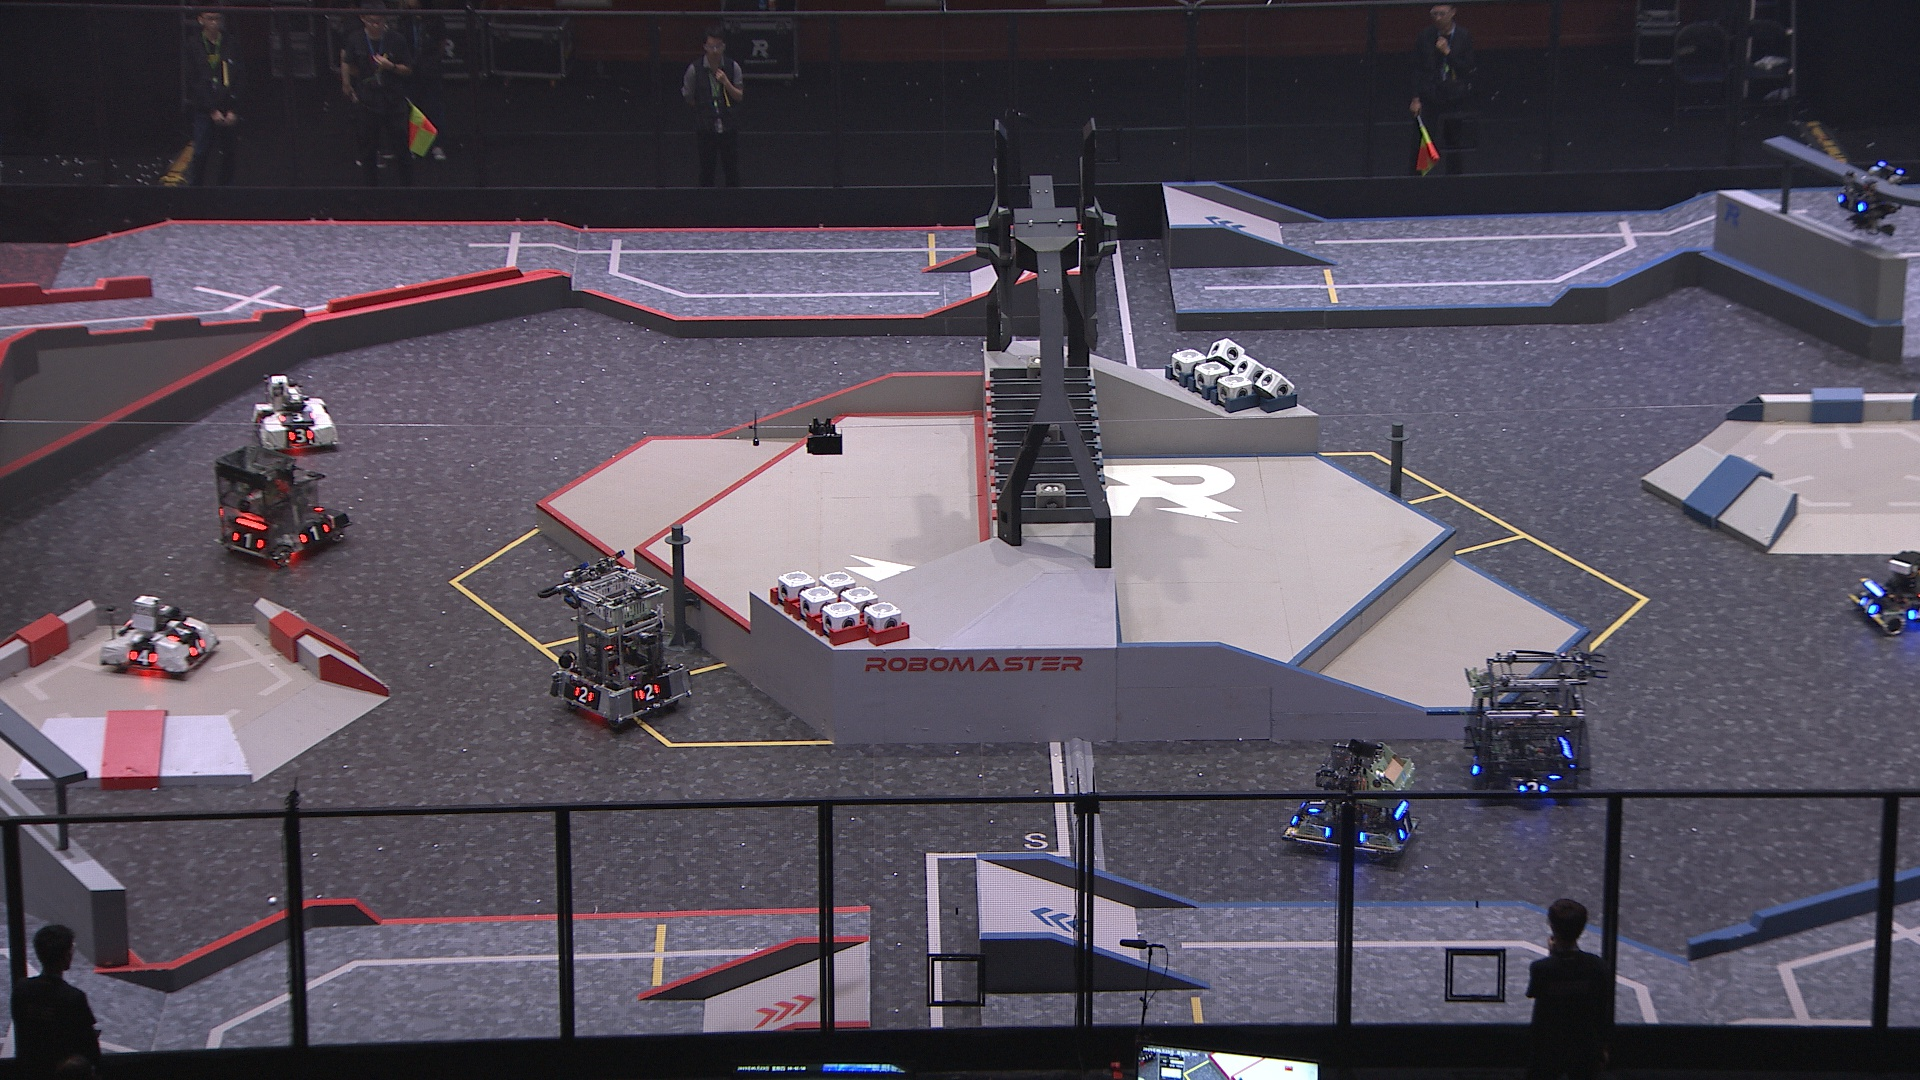armor: (297, 518, 334, 549), (1837, 191, 1871, 218), (164, 617, 193, 647), (125, 645, 160, 670), (276, 405, 314, 427), (1514, 778, 1548, 802), (229, 531, 266, 553), (633, 680, 665, 704), (1393, 815, 1418, 844), (282, 425, 314, 446), (185, 636, 210, 659), (1302, 796, 1327, 818), (572, 684, 595, 705), (1858, 593, 1879, 616)
car: (549, 560, 695, 735), (1466, 651, 1596, 806), (212, 438, 353, 574), (1283, 738, 1420, 858), (95, 589, 223, 679), (249, 367, 342, 454), (1847, 545, 1920, 640)
watcher: (1836, 158, 1909, 237)
